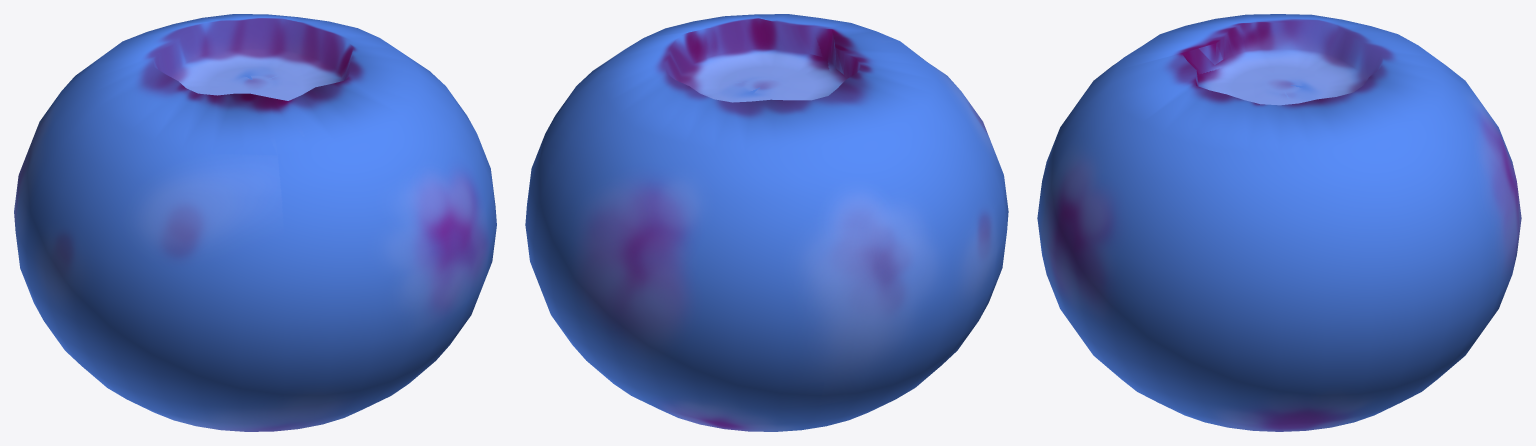
Rendered from blueberry_model.fbx.
3 renders of one model, left to right at view 1: azimuth 30°, elevation 25°; view 2: azimuth 150°, elevation 25°; view 3: azimuth 270°, elevation 25°, orthographic.
Visible parts, largest first — view 1: Sphere; view 2: Sphere; view 3: Sphere.
Boxes of the visible parts, bbox=[...] form: Sphere: bbox=[14, 14, 496, 431]; Sphere: bbox=[525, 14, 1008, 431]; Sphere: bbox=[1037, 14, 1521, 431].
Size of the model in its own units: 200 by 158 by 200.
